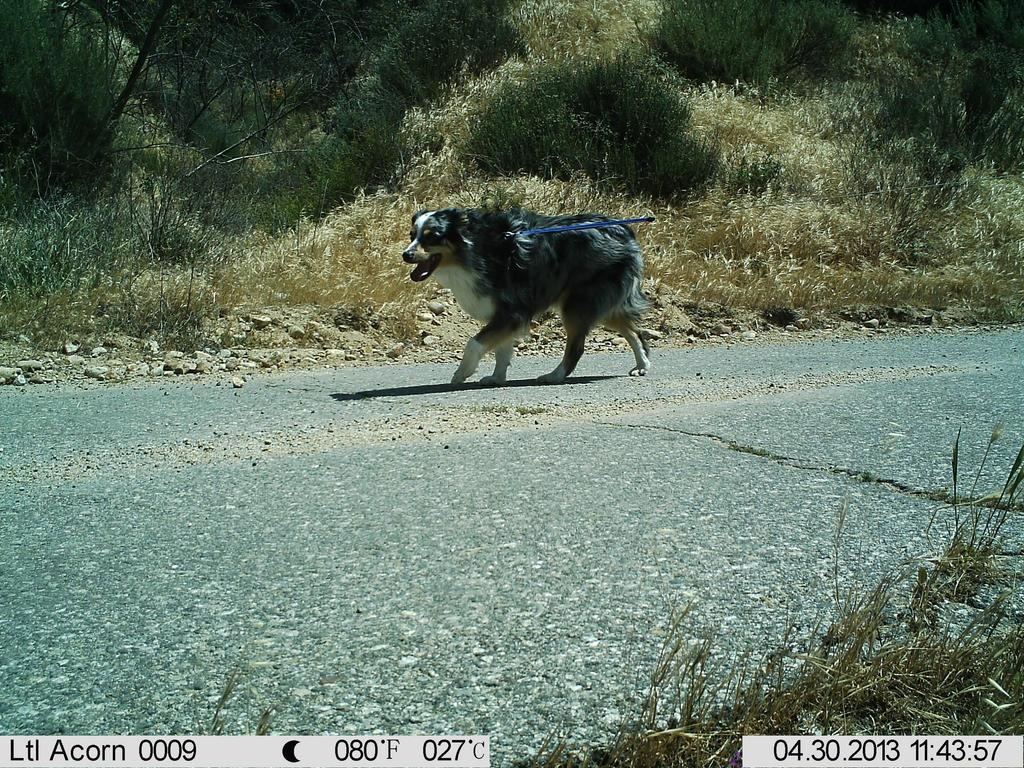dog: (400, 181, 677, 395)
